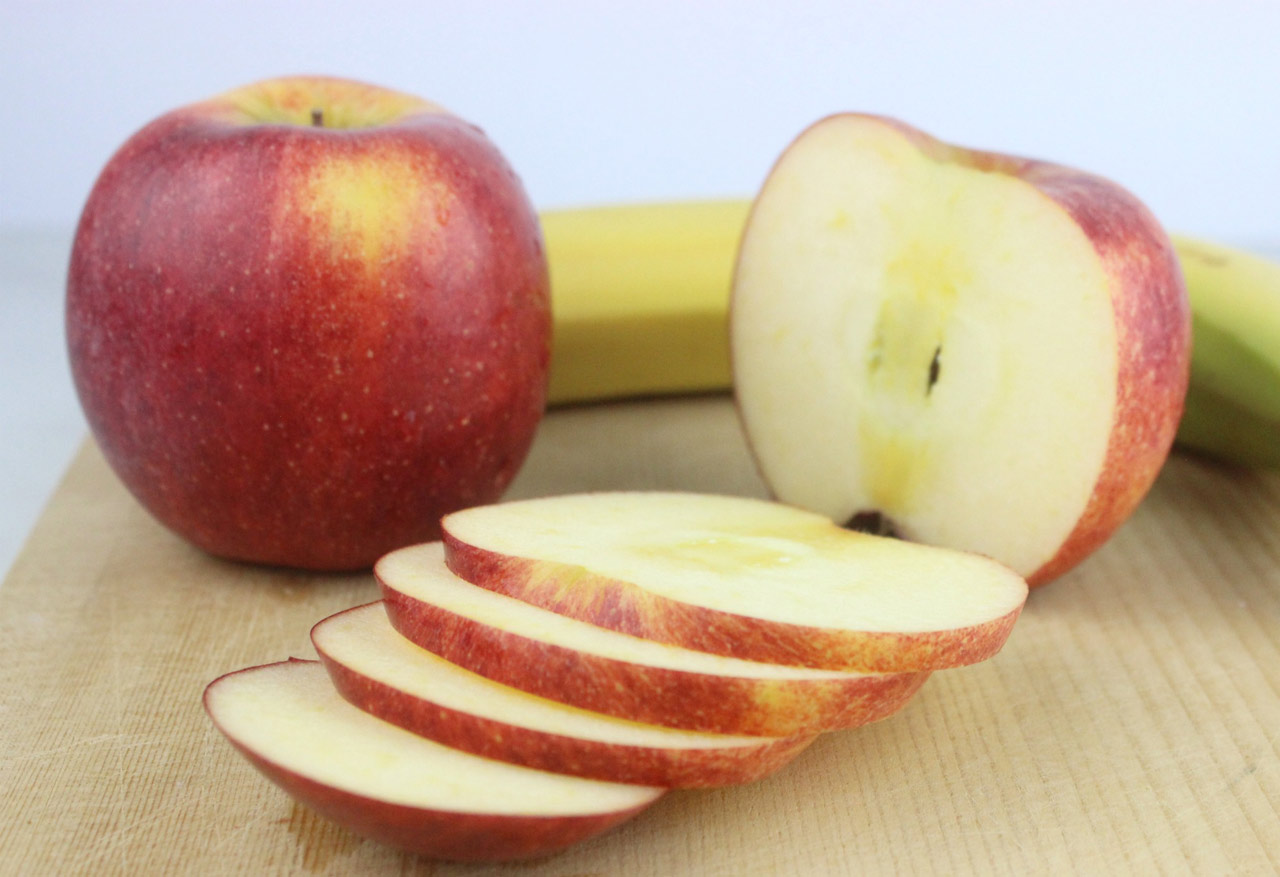apple: (76, 76, 552, 570)
